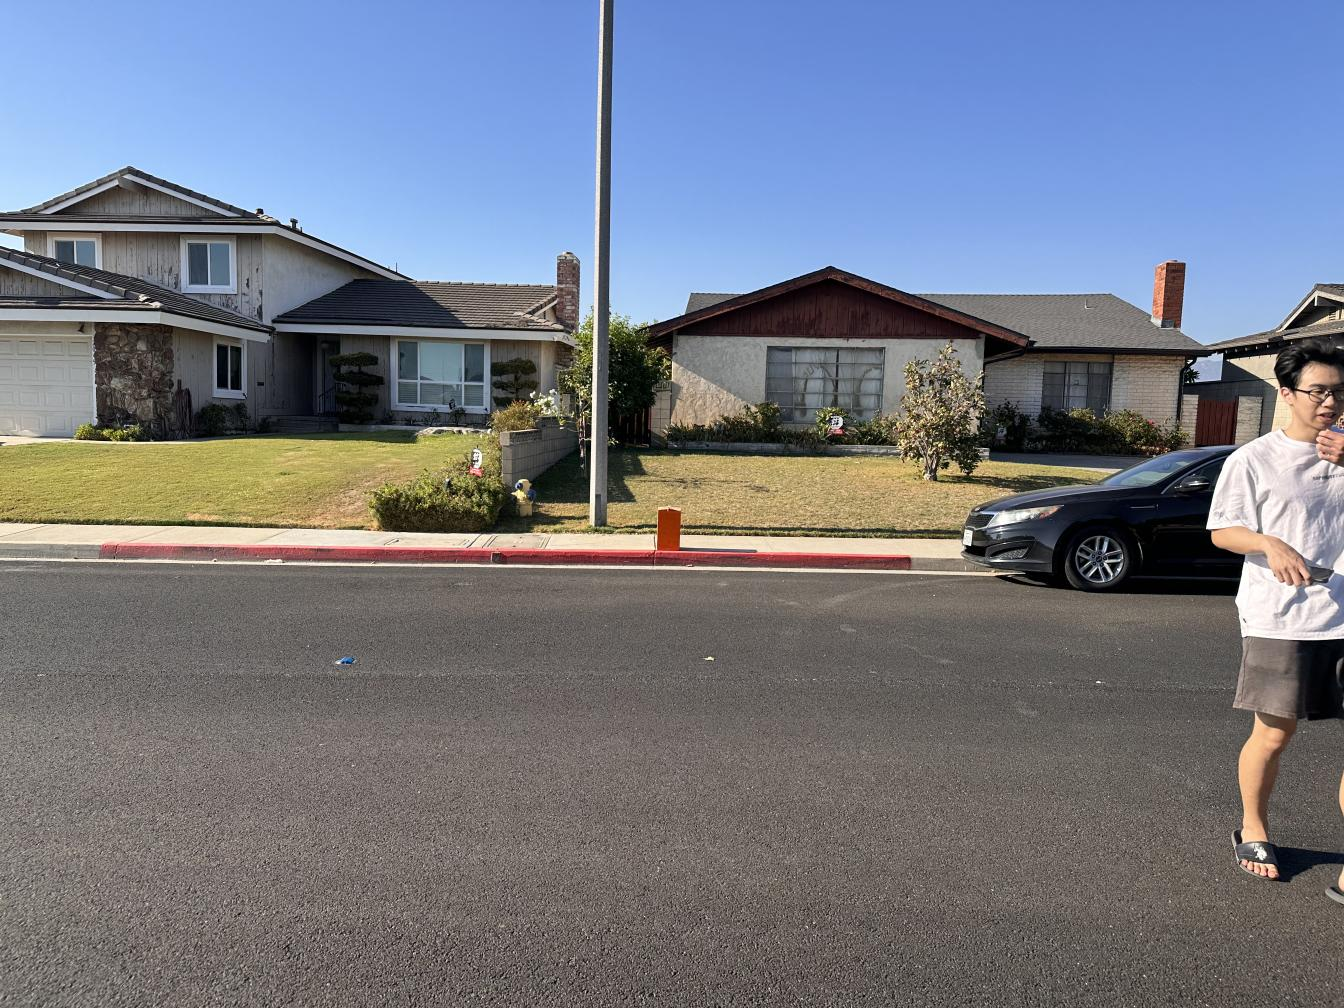orange box: (658, 506, 685, 552)
